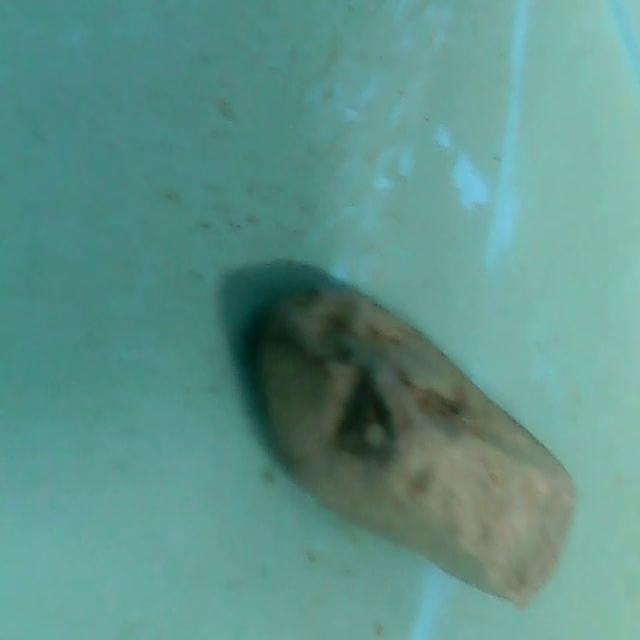rock: (240, 274, 588, 608)
